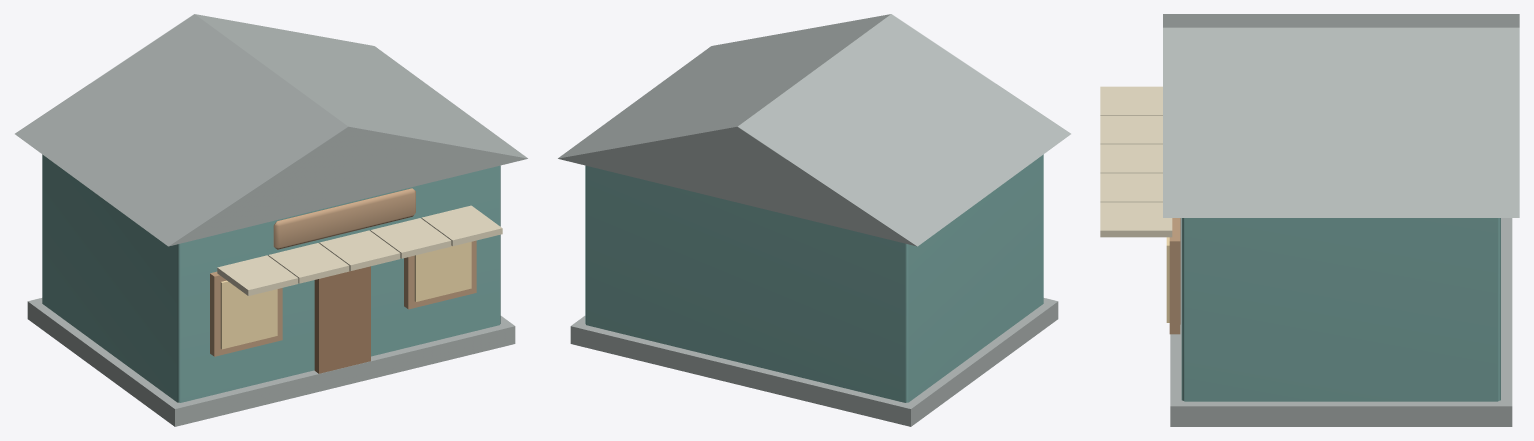
File: harbor-tea-house.glb
3 views of the same model, side by side, from view 1: azimuth 30°, elevation 25°; view 2: azimuth 150°, elevation 25°; view 3: azimuth 270°, elevation 25° (orthographic). The views are drawn at different scales.
Parts seen in each view (by area): view 1: Harbor tea house roof, Harbor tea house shop walls, Harbor tea house plinth, Shop door, Store sign, Display glass, Display glass.001, Striped shop canopy, Striped shop canopy.002, Striped shop canopy.004, Striped shop canopy.001, Striped shop canopy.003 (+2 smaller); view 2: Harbor tea house shop walls, Harbor tea house roof, Harbor tea house plinth; view 3: Harbor tea house roof, Harbor tea house shop walls, Harbor tea house plinth, Striped shop canopy.004, Striped shop canopy, Striped shop canopy.001, Striped shop canopy.002, Striped shop canopy.003, Display window frame.001.
Part boxes in pixels (<box>): Harbor tea house roof: <box>15,14,527,246</box>; Harbor tea house shop walls: <box>42,154,500,402</box>; Harbor tea house plinth: <box>27,298,515,426</box>; Shop door: <box>314,266,370,373</box>; Store sign: <box>273,188,415,249</box>; Display glass: <box>220,280,277,349</box>; Display glass.001: <box>414,241,471,301</box>; Striped shop canopy: <box>217,255,298,295</box>; Striped shop canopy.002: <box>319,230,400,271</box>; Striped shop canopy.004: <box>421,205,502,246</box>; Striped shop canopy.001: <box>268,243,349,283</box>; Striped shop canopy.003: <box>370,218,451,258</box>; Harbor tea house shop walls: <box>585,154,1043,402</box>; Harbor tea house roof: <box>558,14,1070,246</box>; Harbor tea house plinth: <box>570,298,1058,426</box>; Harbor tea house roof: <box>1163,14,1519,217</box>; Harbor tea house shop walls: <box>1181,218,1500,401</box>; Harbor tea house plinth: <box>1170,218,1512,426</box>; Striped shop canopy.004: <box>1100,202,1172,237</box>; Striped shop canopy: <box>1100,86,1162,115</box>; Striped shop canopy.001: <box>1100,115,1162,144</box>; Striped shop canopy.002: <box>1100,144,1162,173</box>; Striped shop canopy.003: <box>1100,173,1162,202</box>; Display window frame.001: <box>1169,218,1180,334</box>.
Bounding box in the file's own units: 6.35 × 4.4 × 5.52.
